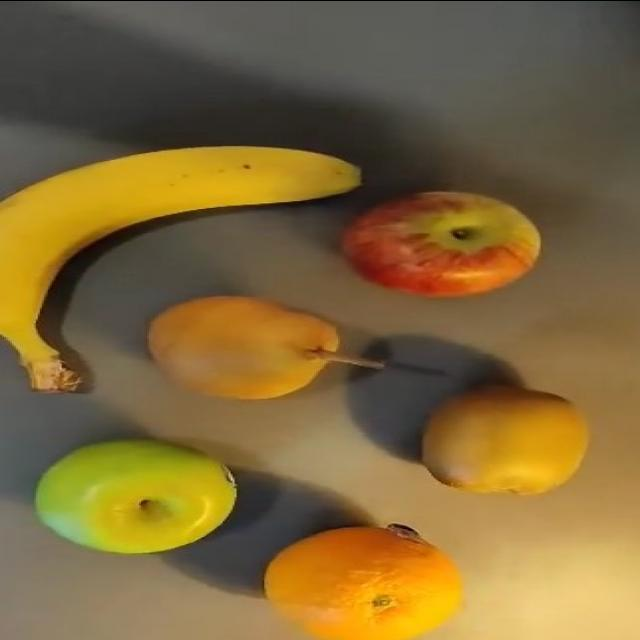Apple: (34, 437, 238, 555), (341, 189, 541, 298)
Banana: (0, 143, 363, 393)
Orange: (262, 522, 464, 639)
